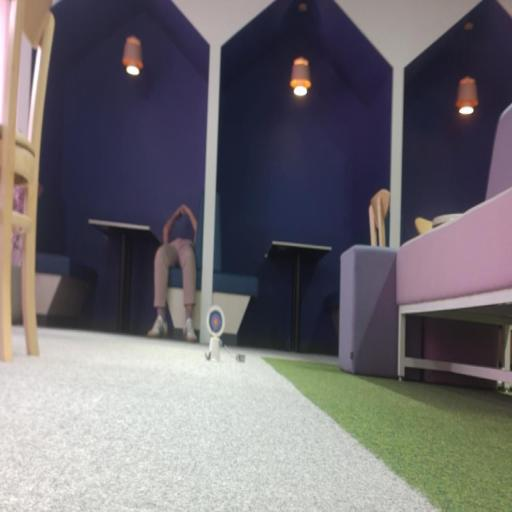target: (206, 305, 225, 337)
